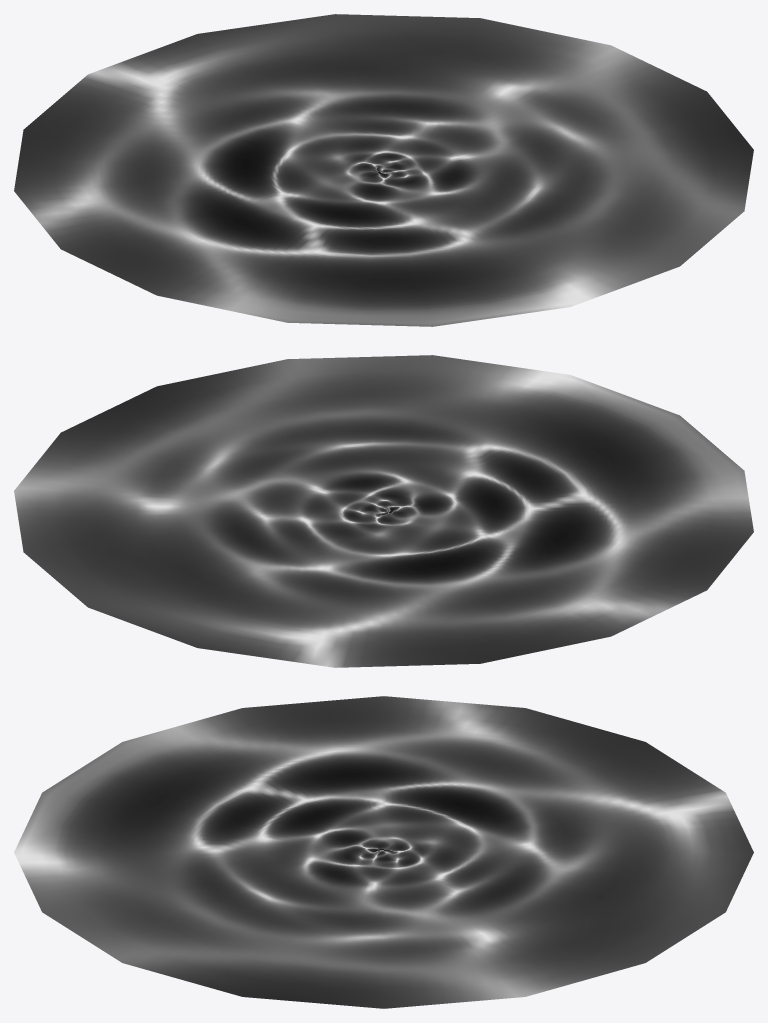
The model's file is eff_Disc04.fbx.
3 renders of one model, top to bottom at view 1: azimuth 30°, elevation 25°; view 2: azimuth 150°, elevation 25°; view 3: azimuth 270°, elevation 25°, orthographic.
Parts seen in each view (by area): view 1: eff_Disc04_msh; view 2: eff_Disc04_msh; view 3: eff_Disc04_msh.
Part boxes in pixels (bbox=[...]): eff_Disc04_msh: bbox=[14, 14, 753, 326]; eff_Disc04_msh: bbox=[14, 355, 753, 667]; eff_Disc04_msh: bbox=[14, 696, 753, 1008].
Bounding box in the file's own units: 9 × 0 × 9.
